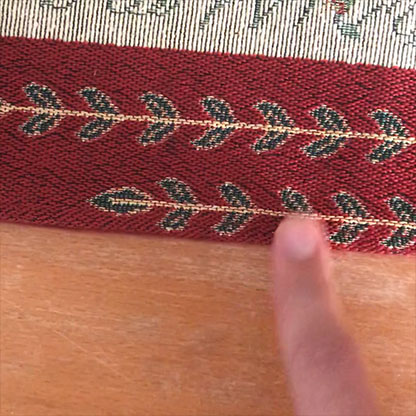fingertip: (266, 202, 335, 279)
